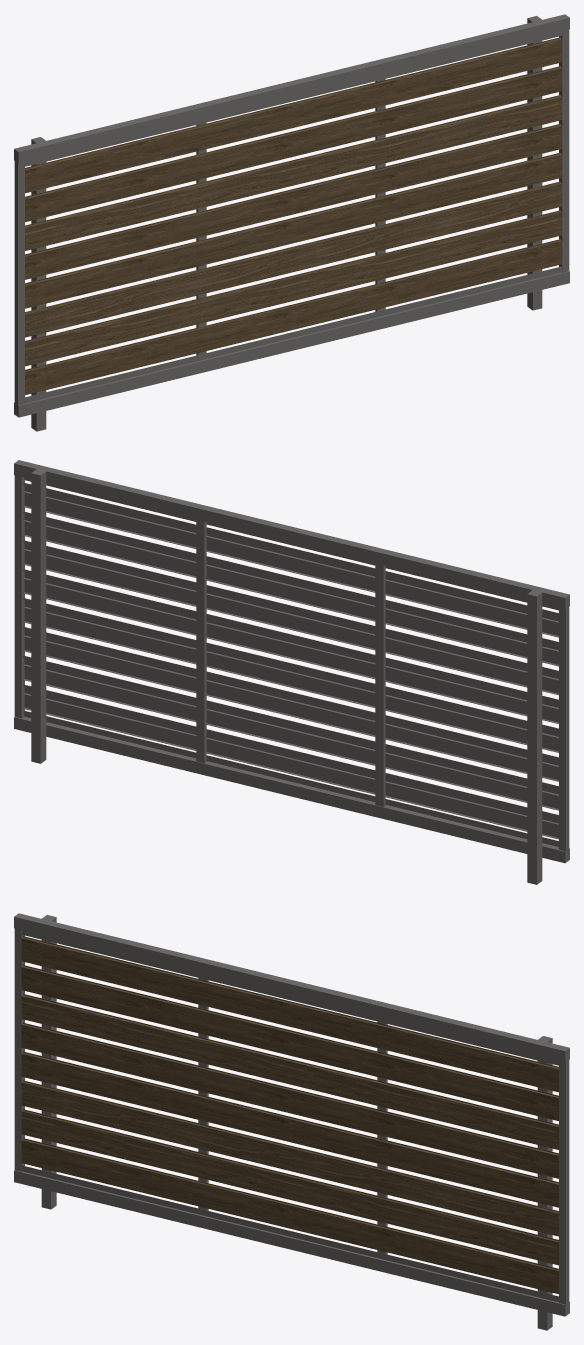
File: EAF-sensia-r-yoko_w1998_h1000_B_brownebony.fbx
3 renders of one model, top to bottom at view 1: azimuth 30°, elevation 25°; view 2: azimuth 150°, elevation 25°; view 3: azimuth 330°, elevation 25°, orthographic.
Visible parts, largest first — view 1: EAF-sensia-r-yoko_w1998_h1000_B-darkpine.001; view 2: EAF-sensia-r-yoko_w1998_h1000_B-darkpine.001; view 3: EAF-sensia-r-yoko_w1998_h1000_B-darkpine.001.
Boxes of the visible parts, bbox=[...] form: EAF-sensia-r-yoko_w1998_h1000_B-darkpine.001: bbox=[14, 14, 569, 431]; EAF-sensia-r-yoko_w1998_h1000_B-darkpine.001: bbox=[14, 460, 569, 884]; EAF-sensia-r-yoko_w1998_h1000_B-darkpine.001: bbox=[14, 913, 569, 1330].
Size of the model in its own units: 200 by 100 by 6.5.
Materials: 2 (1 with a texture image).
